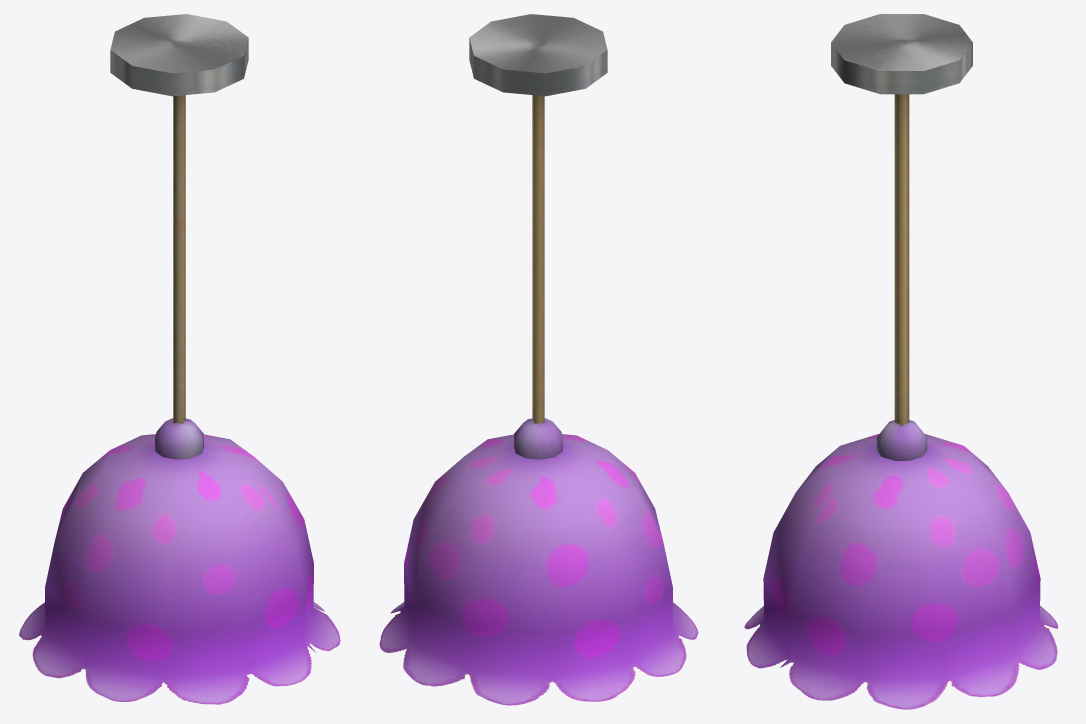
Rendered from furni_0200133_01.FBX.
3 views of the same model, side by side, from view 1: azimuth 30°, elevation 25°; view 2: azimuth 150°, elevation 25°; view 3: azimuth 270°, elevation 25° (orthographic).
Parts seen in each view (by area): view 1: furni_0200133_01; view 2: furni_0200133_01; view 3: furni_0200133_01.
Boxes of the visible parts, <box> form: furni_0200133_01: <box>19,14,340,704</box>; furni_0200133_01: <box>379,14,698,705</box>; furni_0200133_01: <box>744,14,1058,709</box>.
Size of the model in its own units: 68.22 by 140 by 71.73.
